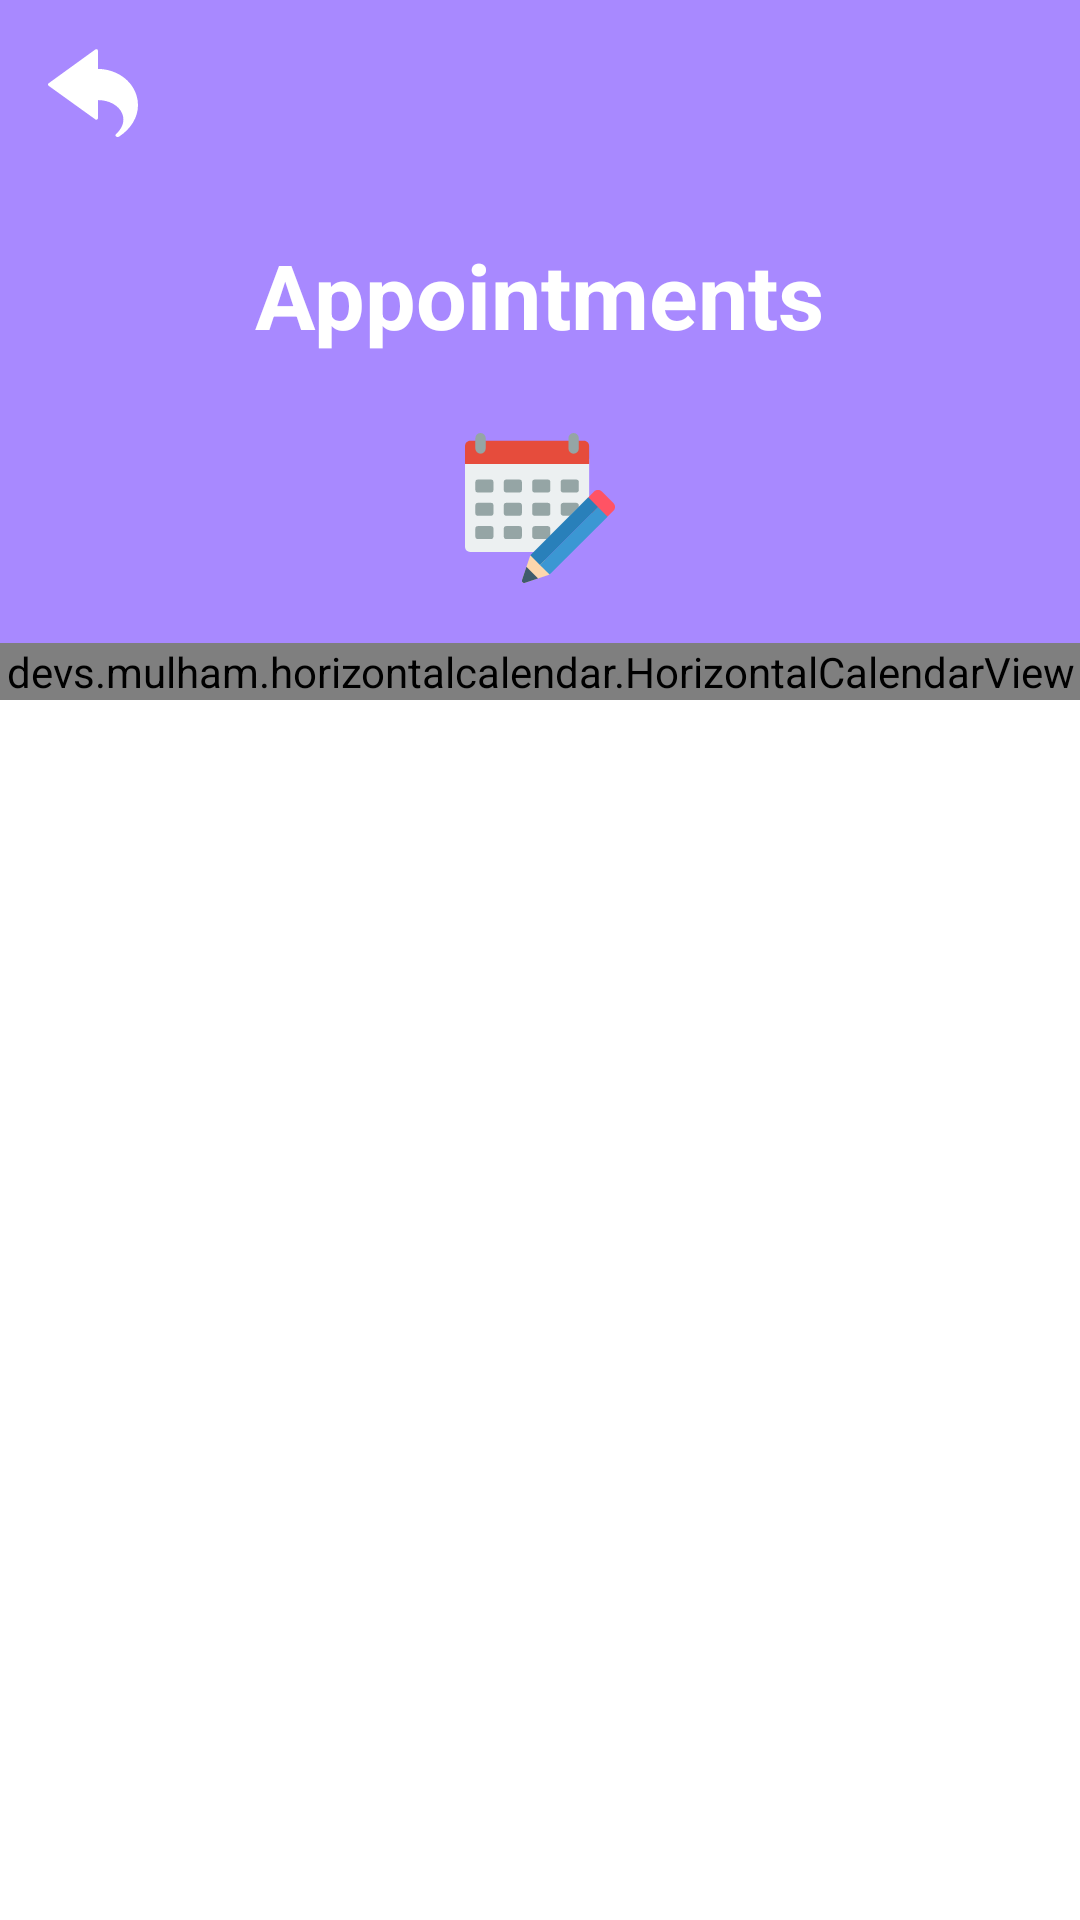

Screen size 1080 x 1920. Icon name, then its box in pixels as bbox=[x1, y1, x2, y2]:
back: bbox=[48, 49, 138, 137]
